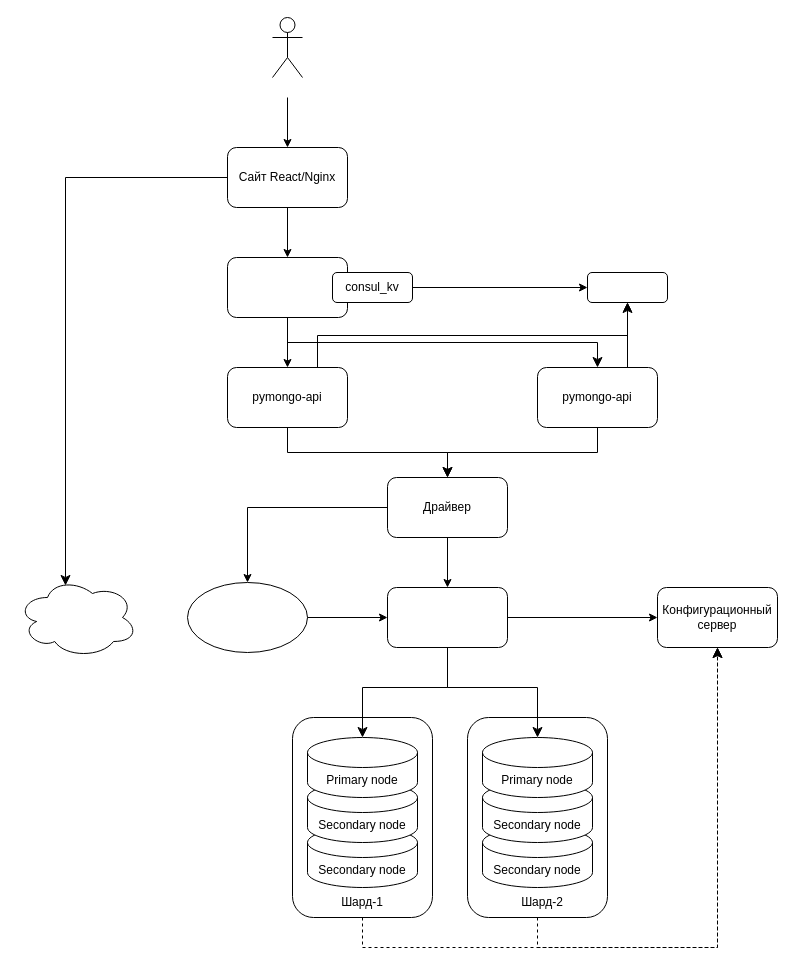
Image size: 795x975. Some labels were removed from this diagram. The shapes that lost their labels are listed below. From the top down, each one's centre as x and y in pixels, then its label:
(287,47): Пользователь
(287,287): API Gateway
(627,287): Consul
(77,617): CDN
(247,617): Redis (кеш)
(447,617): Роутер
